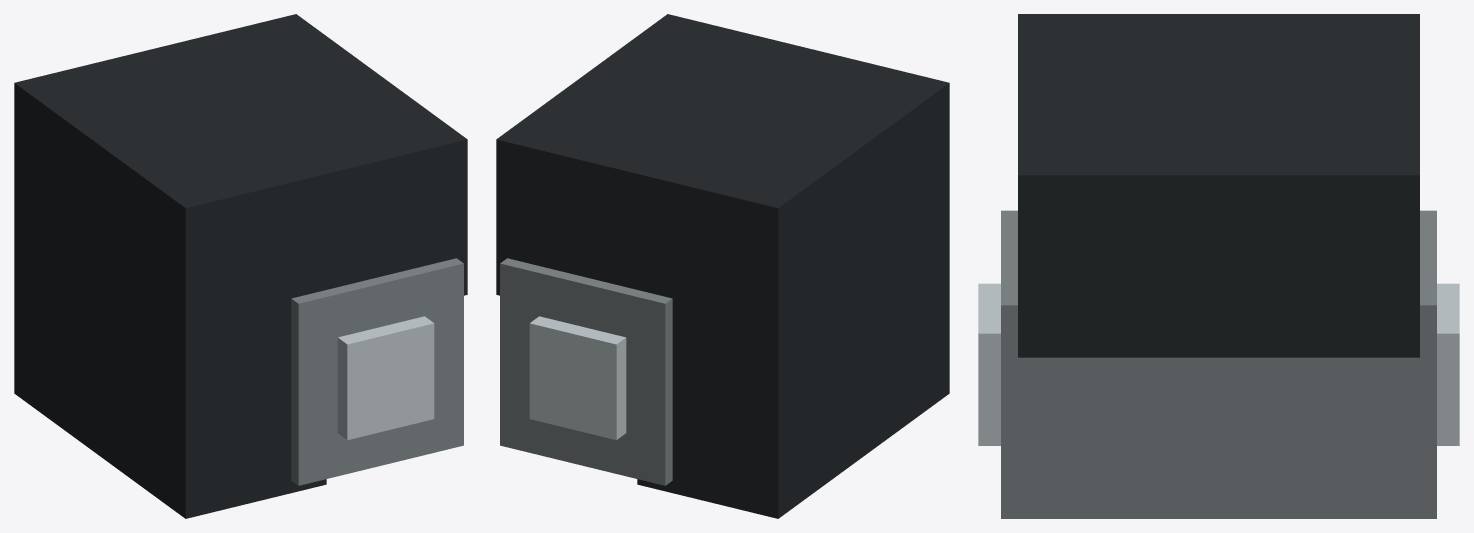
File: Shoulder 01.FBX
3 renders of one model, left to right at view 1: azimuth 30°, elevation 25°; view 2: azimuth 150°, elevation 25°; view 3: azimuth 270°, elevation 25°, orthographic. The views are drawn at different scales.
Visible parts, largest first — view 1: Shoulder 01; view 2: Shoulder 01; view 3: Shoulder 01.
Boxes of the visible parts, x1,y1,x2,y2 form: Shoulder 01: (14,14,467,518); Shoulder 01: (496,14,949,518); Shoulder 01: (978,14,1459,518).
Bounding box in the file's own units: 22.27 × 23.44 × 28.07.
1 material, 1 textured.
